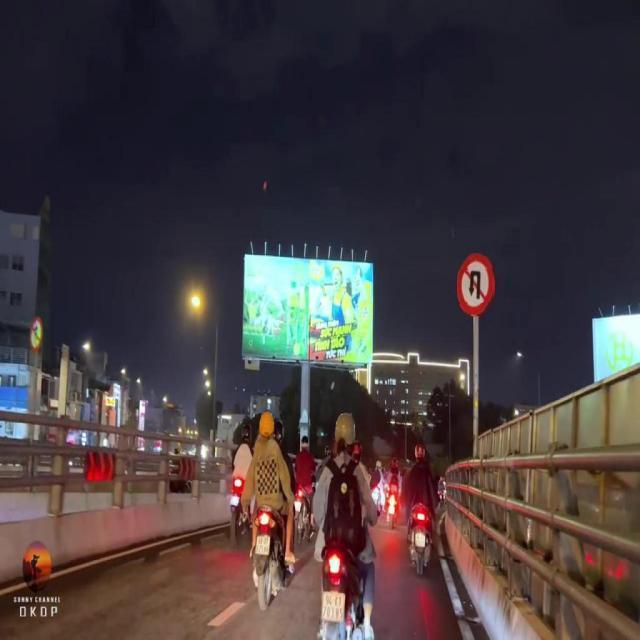124a-cam-quay-dau-xe: (456, 252, 496, 316)
